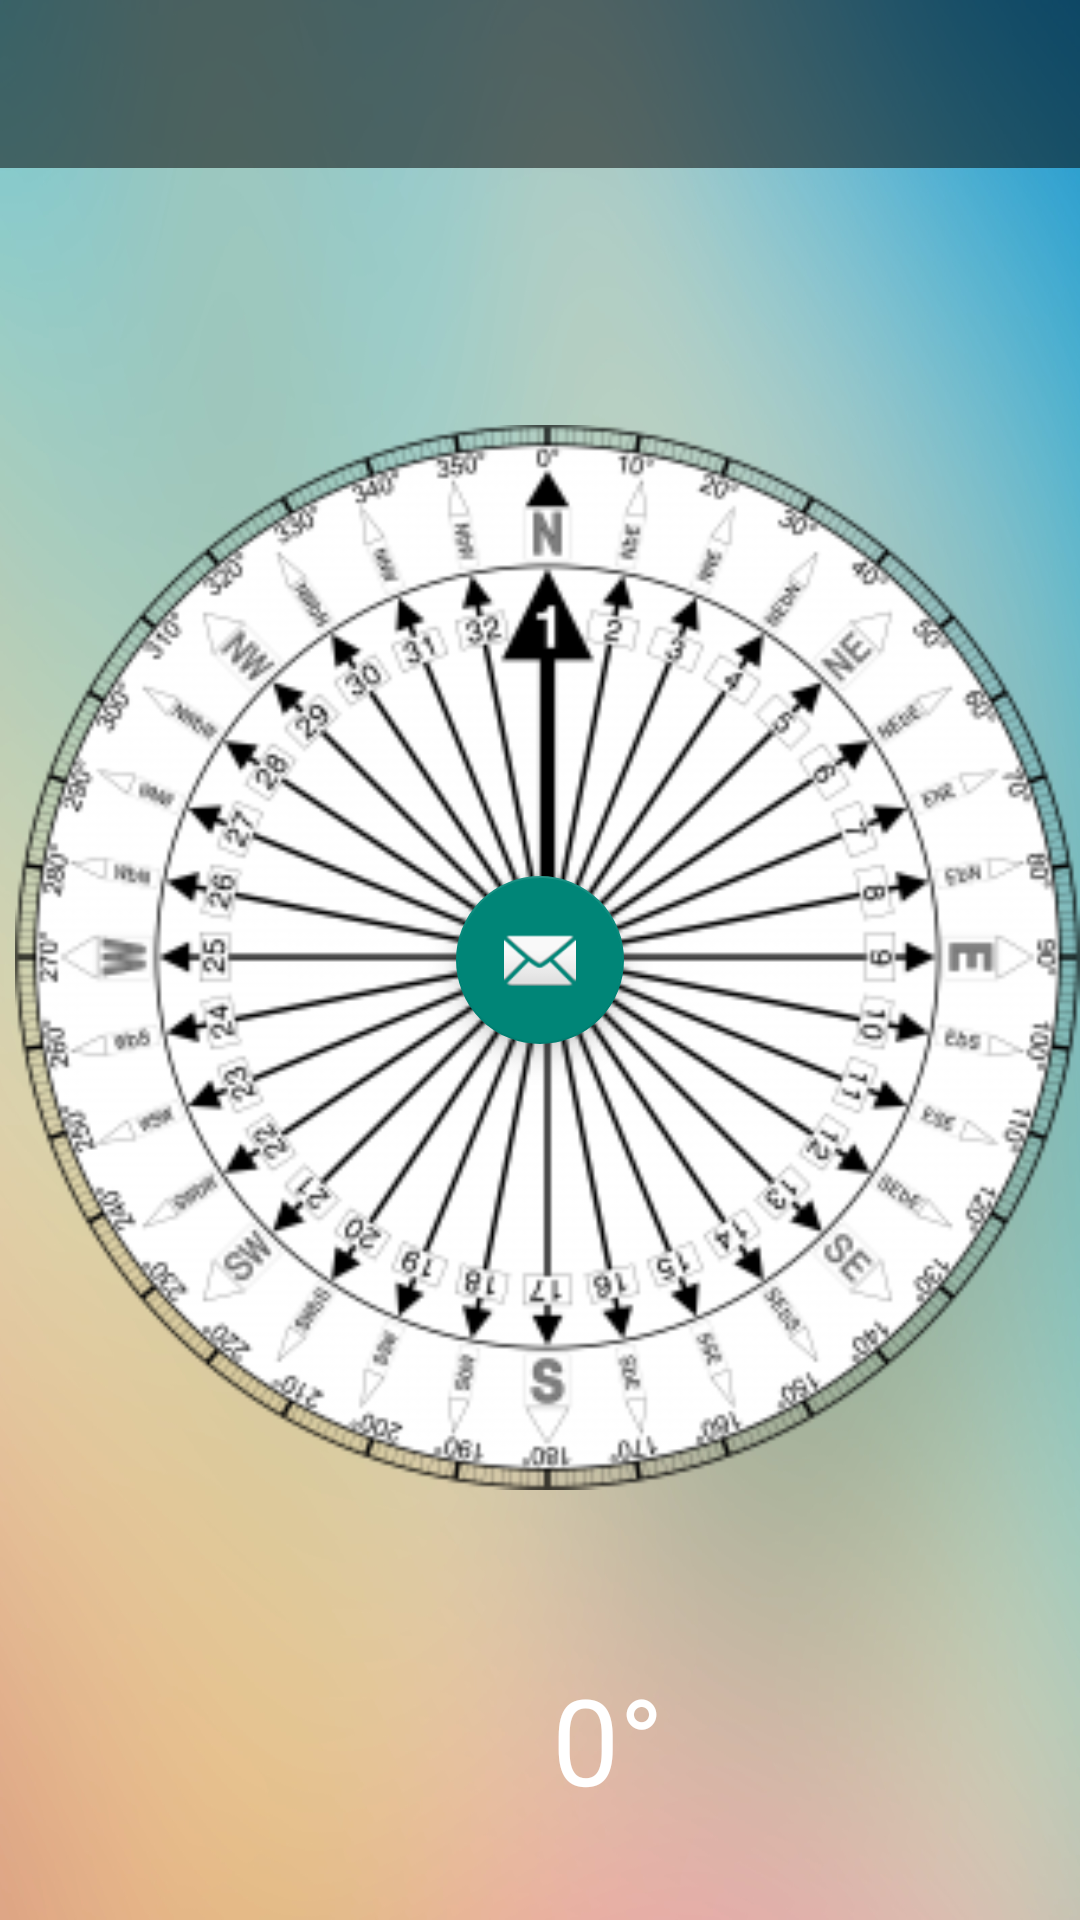

Screen size 1080px x 1920px. Icon name, then its center in pixels as [x,y]:
email: [540,960]
